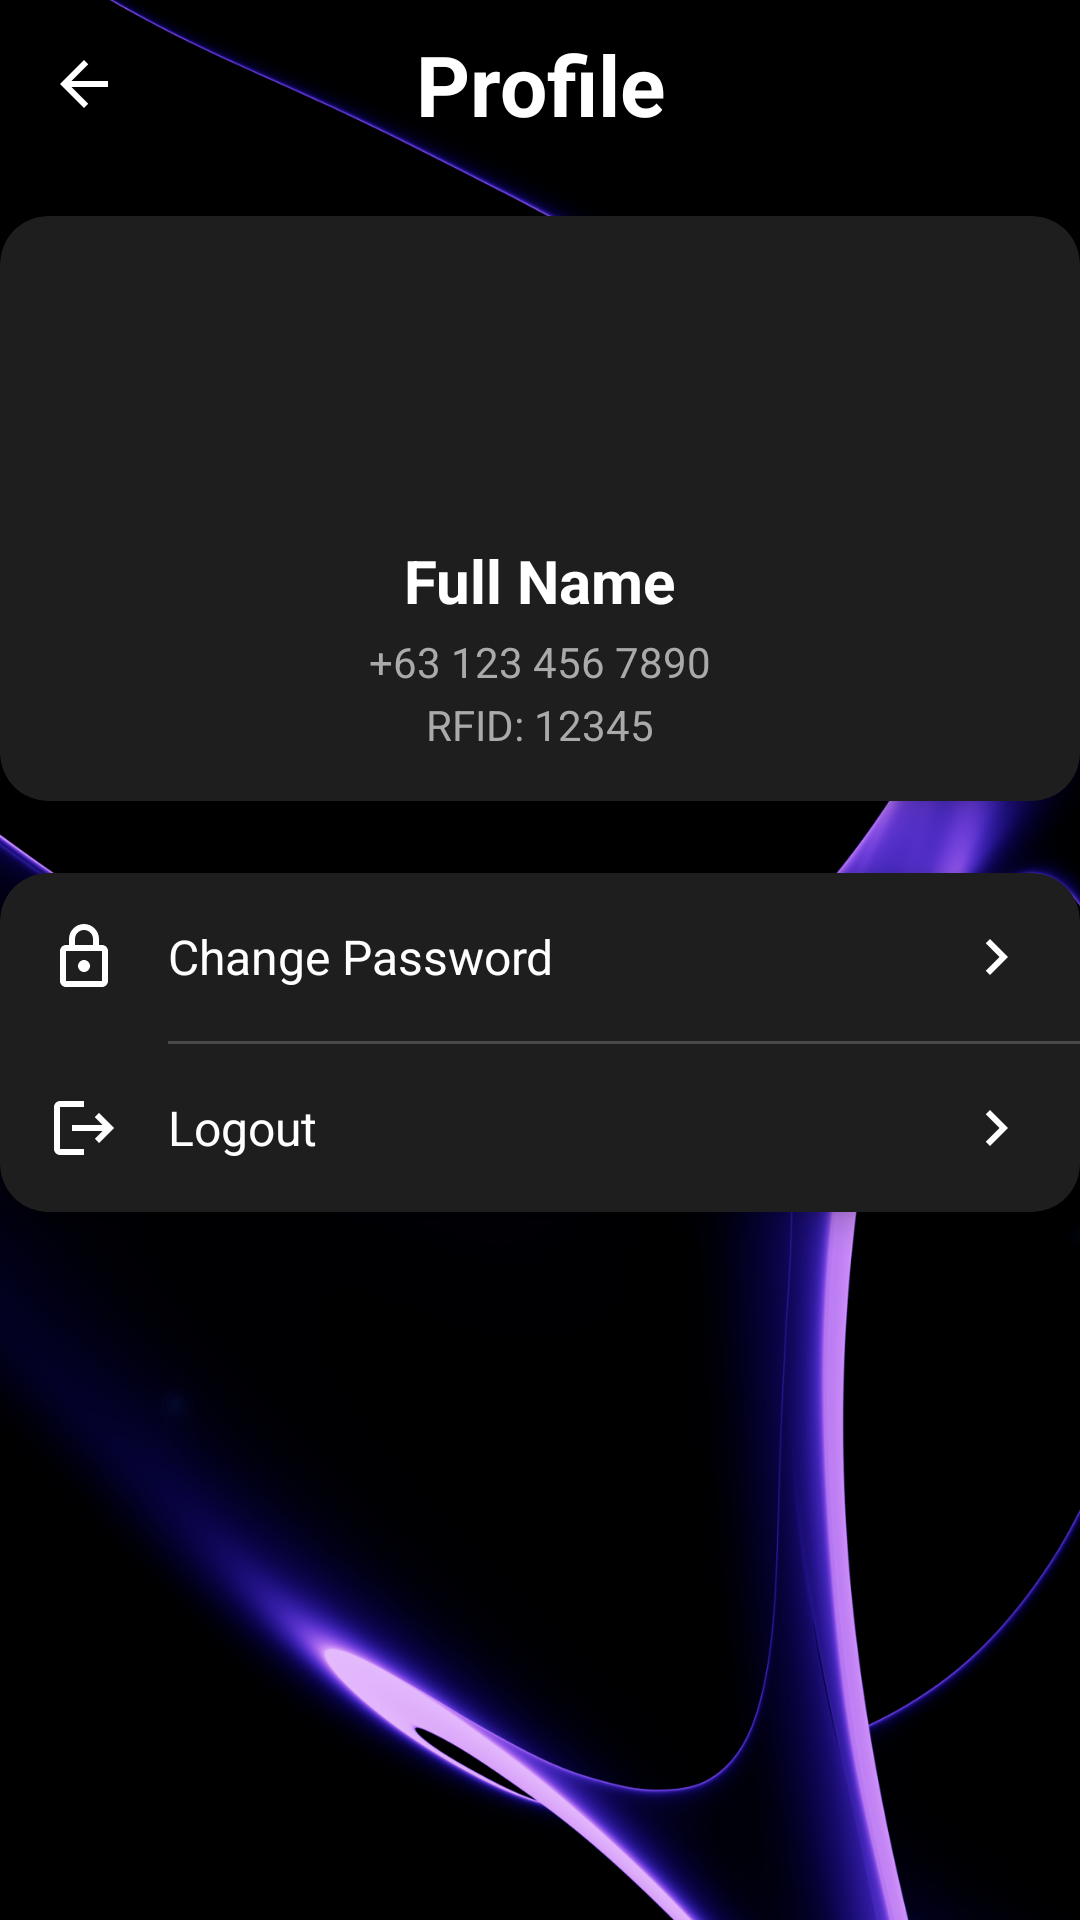

Named icons in this screenshot (1080w x 1920h) and their bounding boxes, (x1, y1, x2, y2):
arrow back: (60, 60, 108, 108)
chevron right: (986, 939, 1008, 975), (986, 1110, 1008, 1146)
